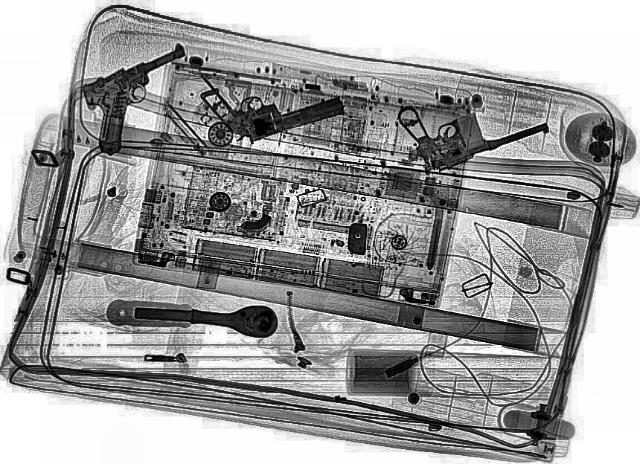Gun: (51, 42, 235, 154), (380, 71, 552, 173), (197, 57, 353, 146)
